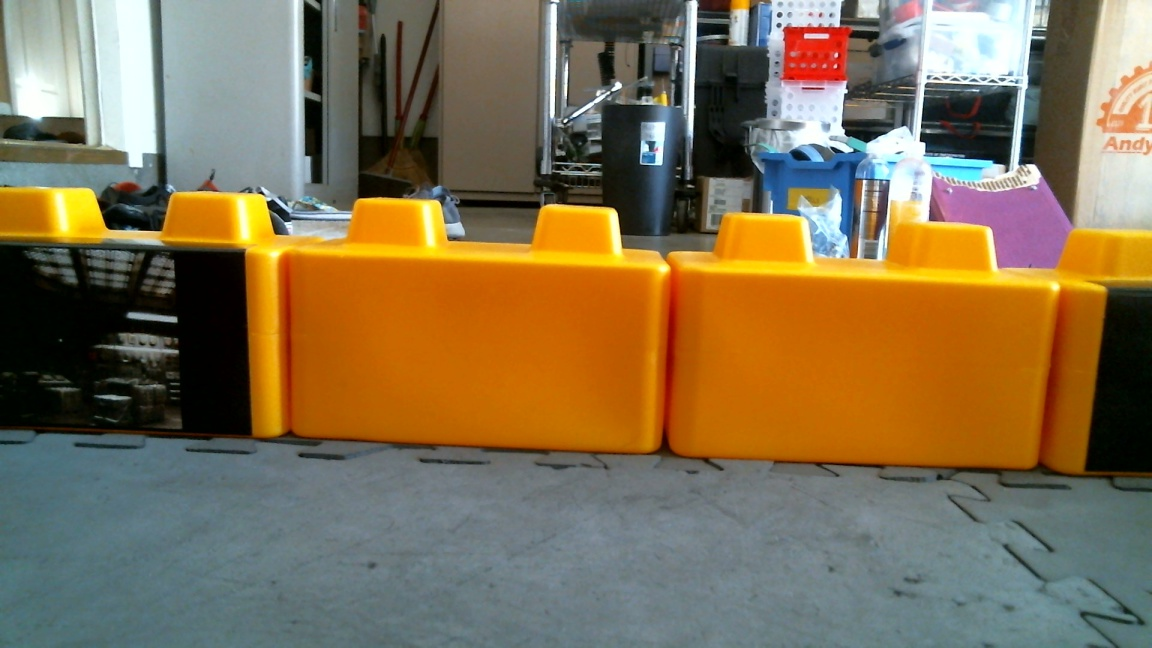left: (1, 185, 1055, 447)
